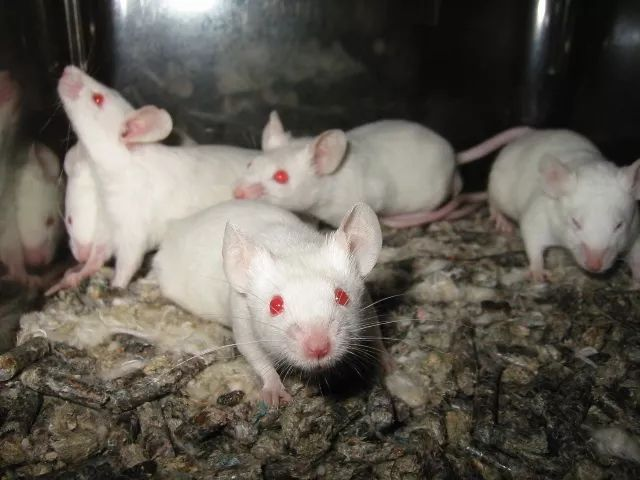mouse: (41, 34, 188, 282), (199, 222, 382, 396), (495, 116, 640, 303), (247, 104, 455, 211)
